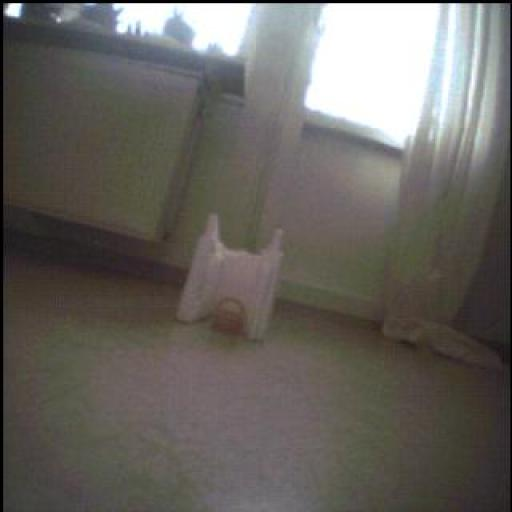Basket: (213, 299, 248, 337)
